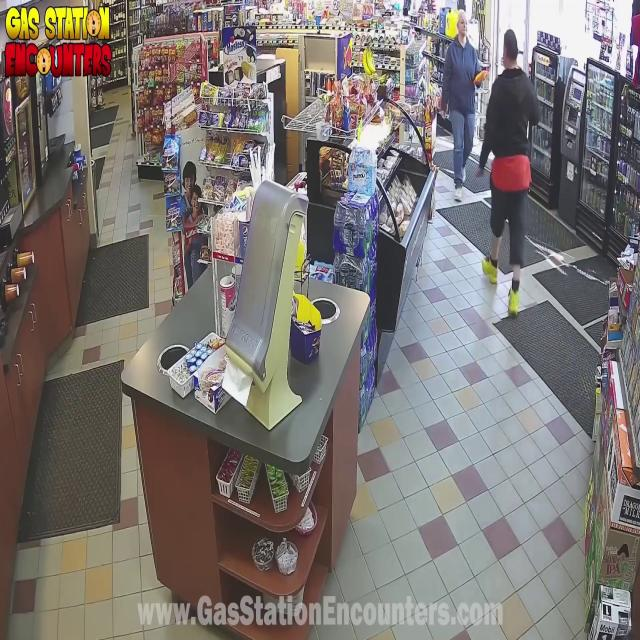Product: (475, 64, 489, 92)
normal: (478, 30, 550, 323)
shoplifting: (439, 5, 490, 189)
